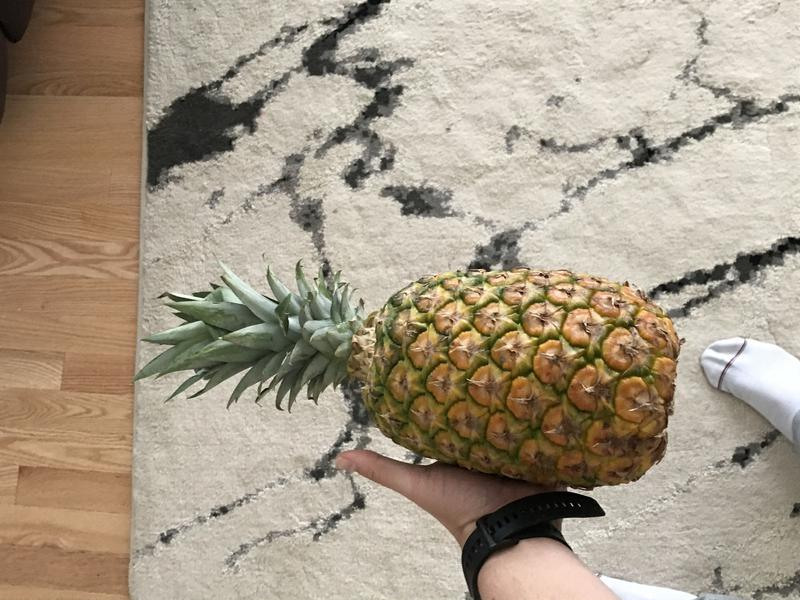pineapple: (135, 252, 691, 497)
